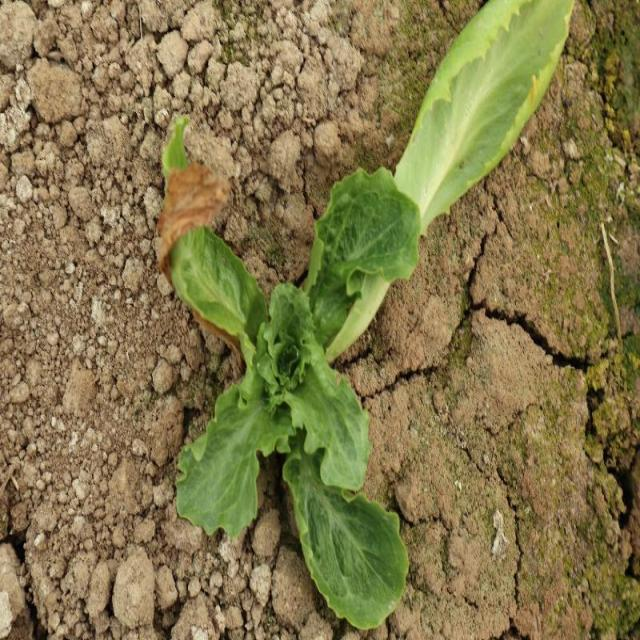crop: (168, 168, 421, 632)
